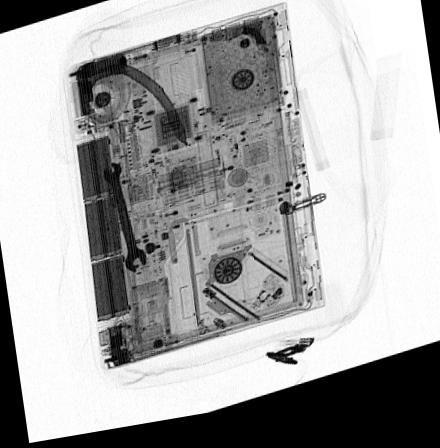Wrench: (102, 163, 148, 278)
